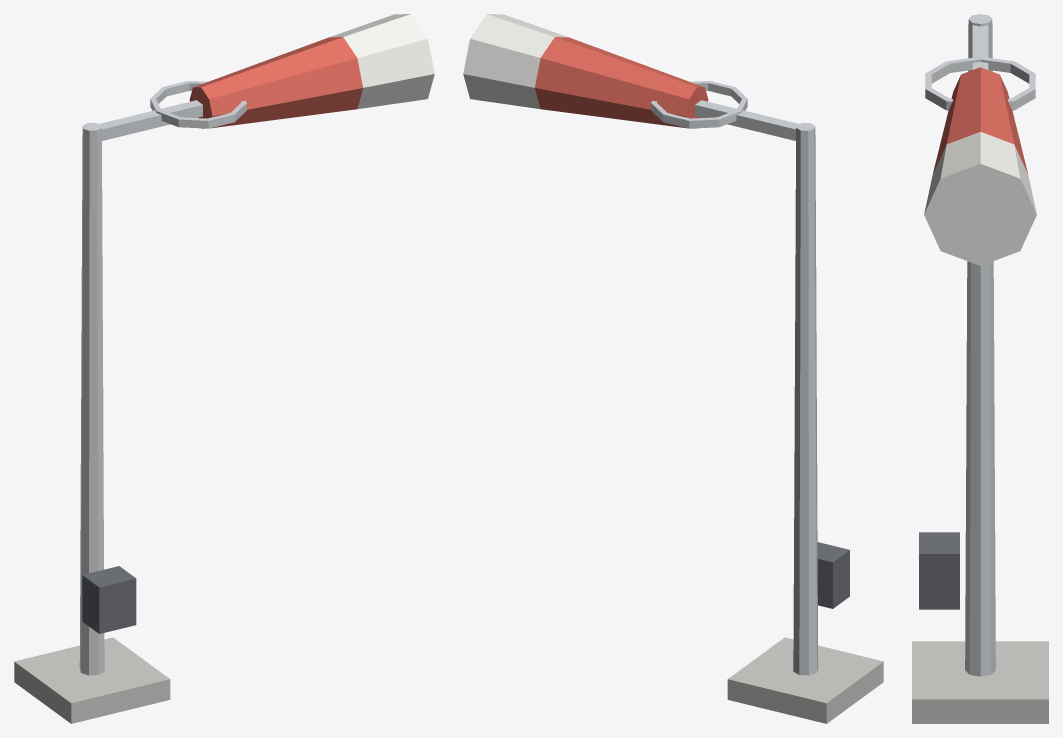
File: radio-telescope-array-and-field-station-windsock-mast-7aa99407__37660.glb
3 renders of one model, left to right at view 1: azimuth 30°, elevation 25°; view 2: azimuth 150°, elevation 25°; view 3: azimuth 270°, elevation 25°, orthographic. The views are drawn at different scales.
Parts seen in each view (by area): view 1: windsock-mast; view 2: windsock-mast; view 3: windsock-mast.
Boxes of the visible parts, x1,y1,x2,y2 form: windsock-mast: (14, 14, 434, 723); windsock-mast: (463, 14, 883, 723); windsock-mast: (912, 14, 1048, 723).
Size of the model in its own units: 2.98 by 4.63 by 0.8.
